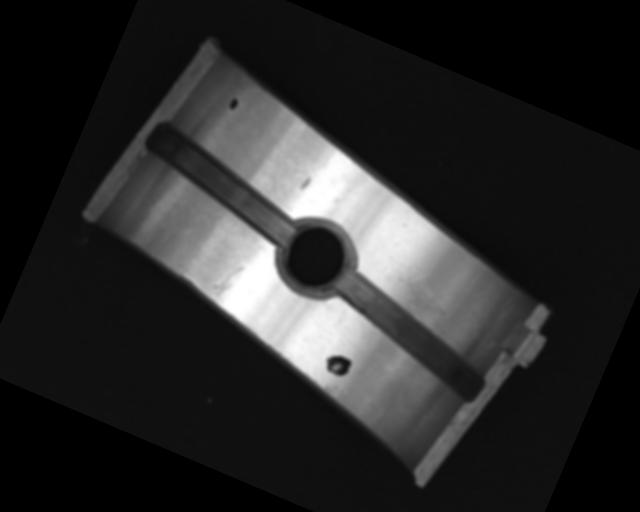blot: (320, 349, 354, 379), (226, 95, 241, 112)
bruise: (299, 175, 311, 193)
gap: (317, 266, 504, 402), (131, 119, 312, 246)
hole: (266, 209, 366, 306)
nick: (208, 257, 246, 307)
scratch: (386, 263, 463, 325)
